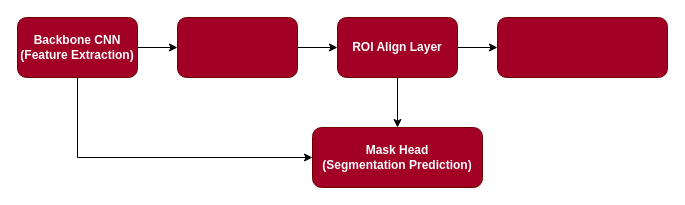
The diagram is 685 pixels wide and 205 high, and some of its shapes have lost their labels. The centre of each missing label's shape, as x and y in pixels:
"Box head (Classification & Regression)" goes at point 582,47.
"Region Proposal Network" goes at point 237,47.
